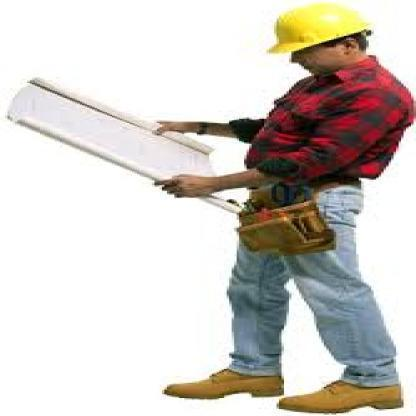helmet: (265, 3, 376, 54)
